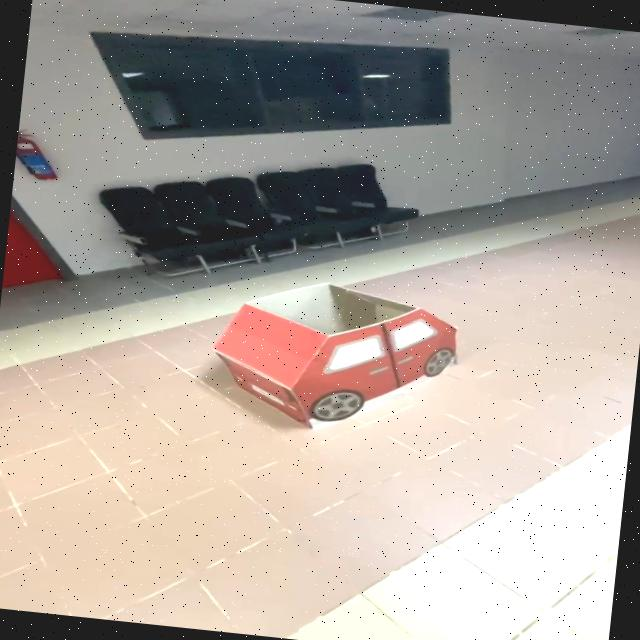red_car: (186, 265, 486, 458)
